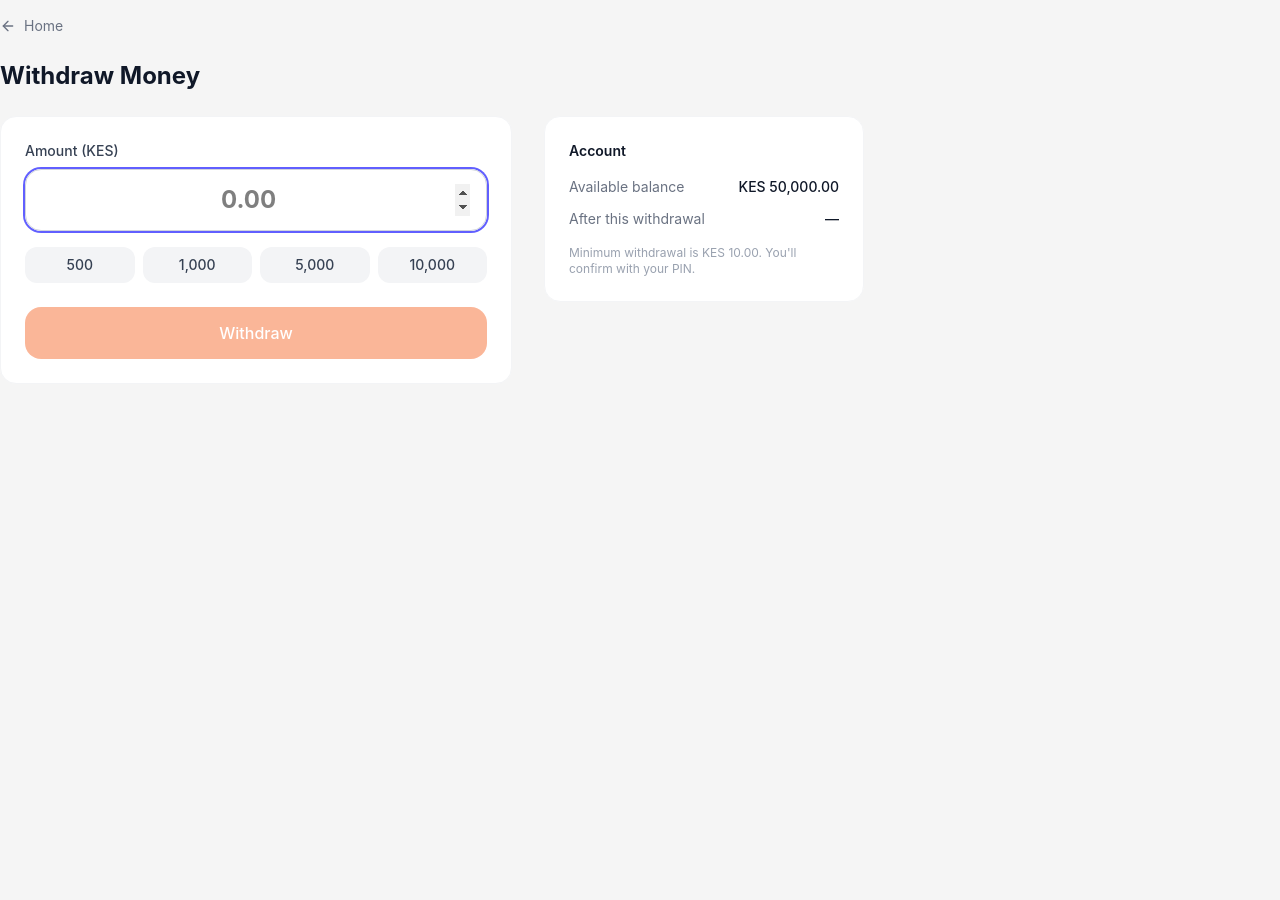
Scenario: WithdrawPage › reveals the PinPad after the Withdraw button is tapped
Step 1. Type "500" into the number field with placeholder "0.00" → (256,200), box [25,169,487,231]
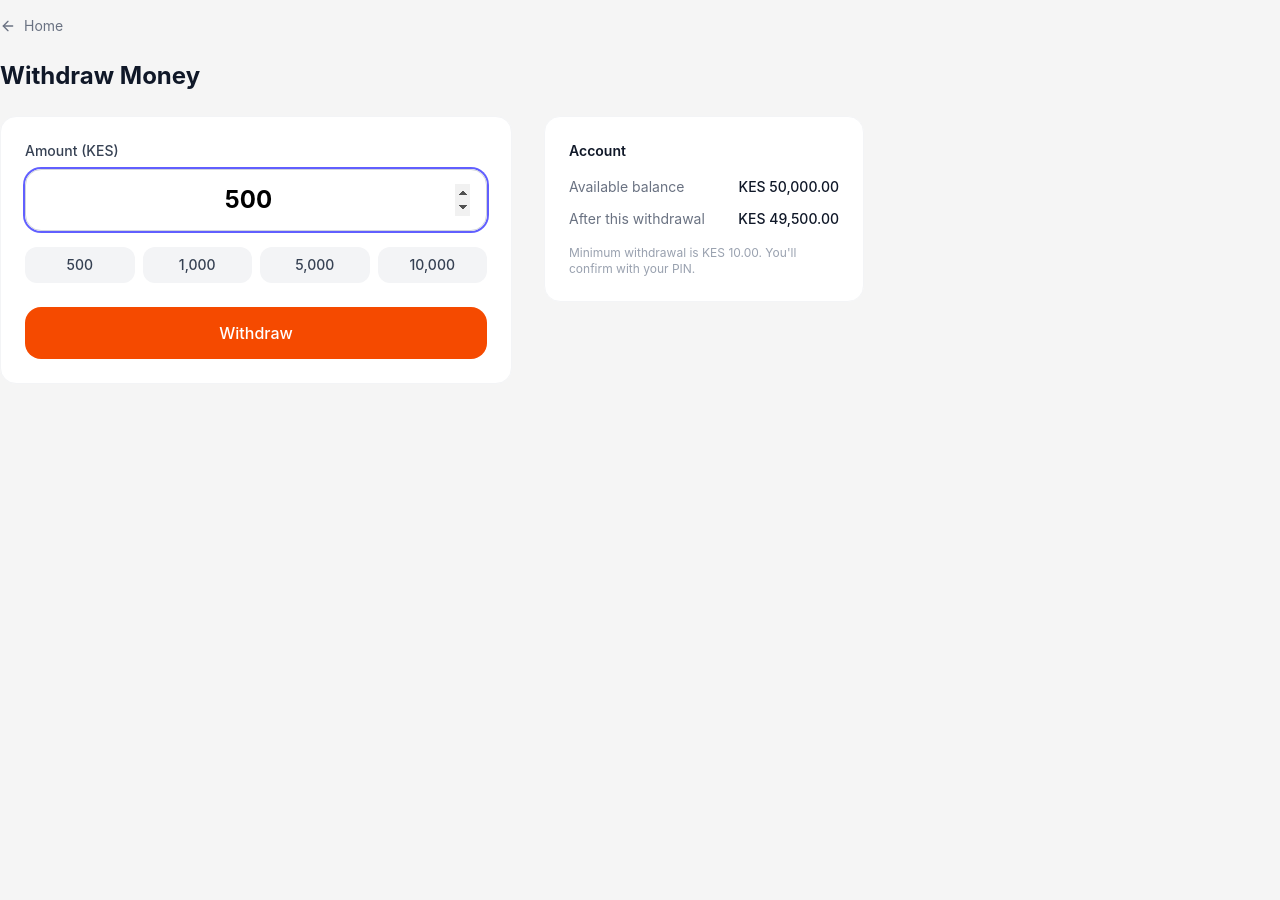
Step 2. Click the button "Withdraw" → (256,333), box [25,307,487,359]
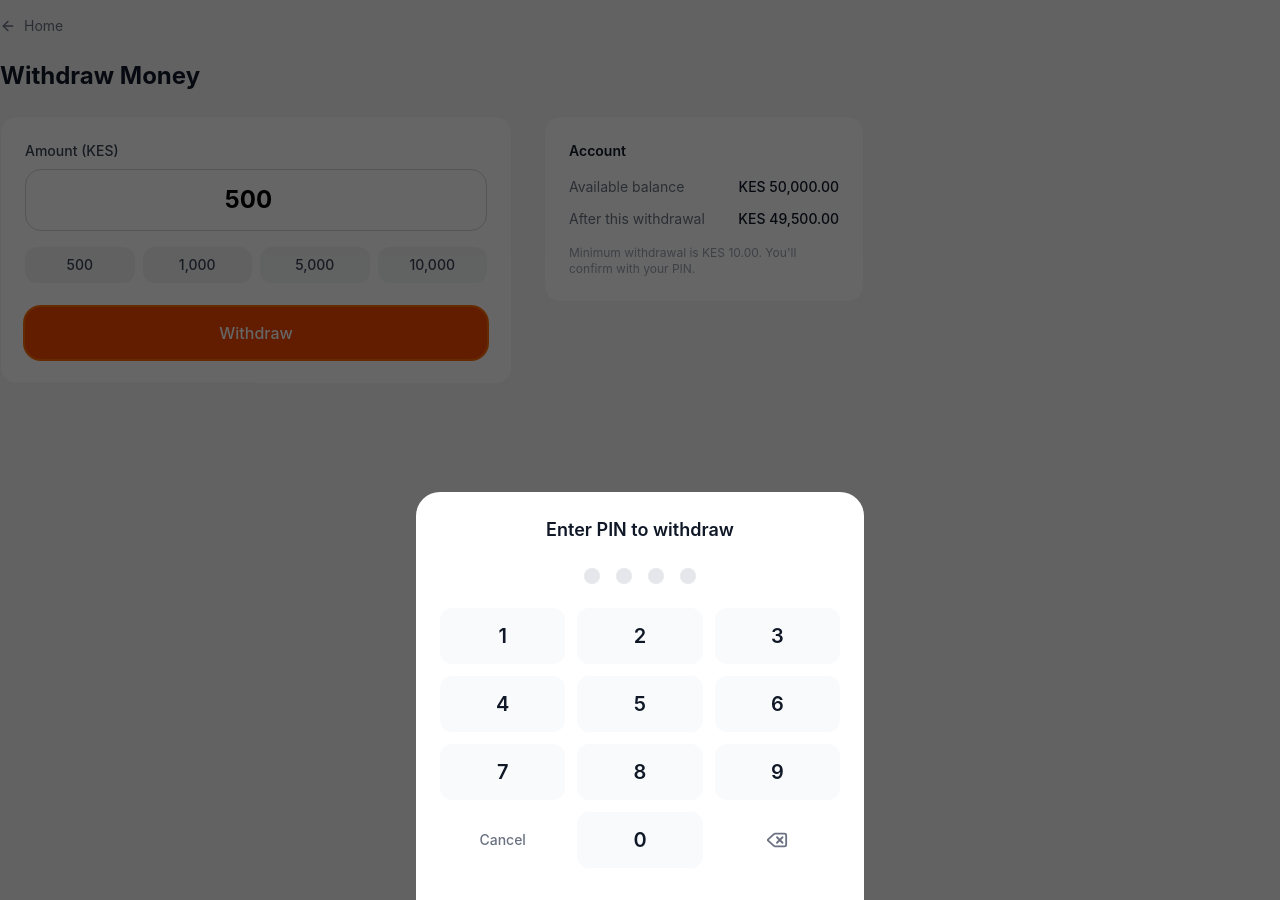
Now the text "Enter PIN to withdraw" is shown, box [546,519,734,540]
Now the button "1" is shown, box [440,608,565,664]
